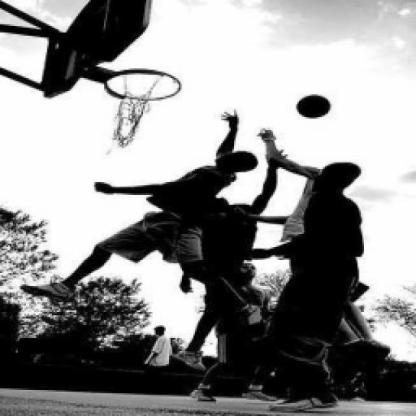basketball: (294, 91, 334, 124)
